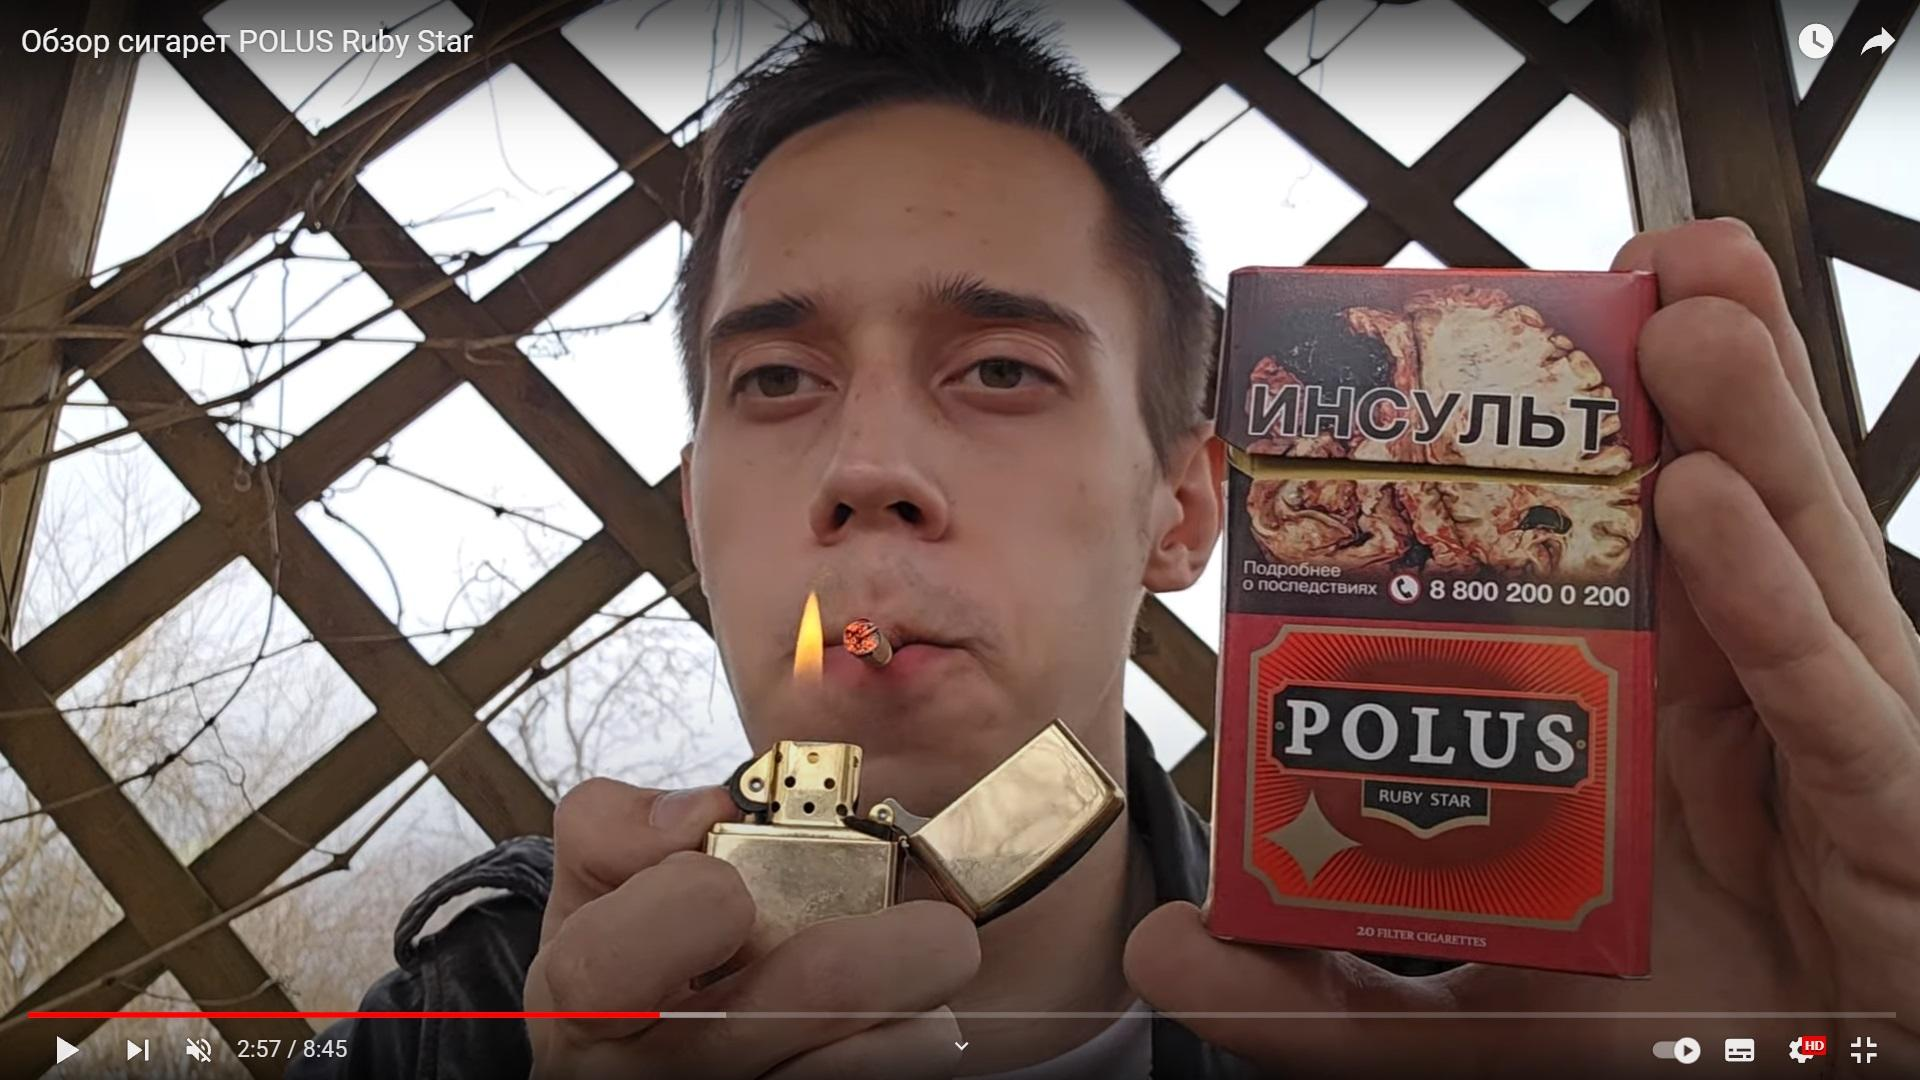cigarette: (843, 617, 893, 669)
